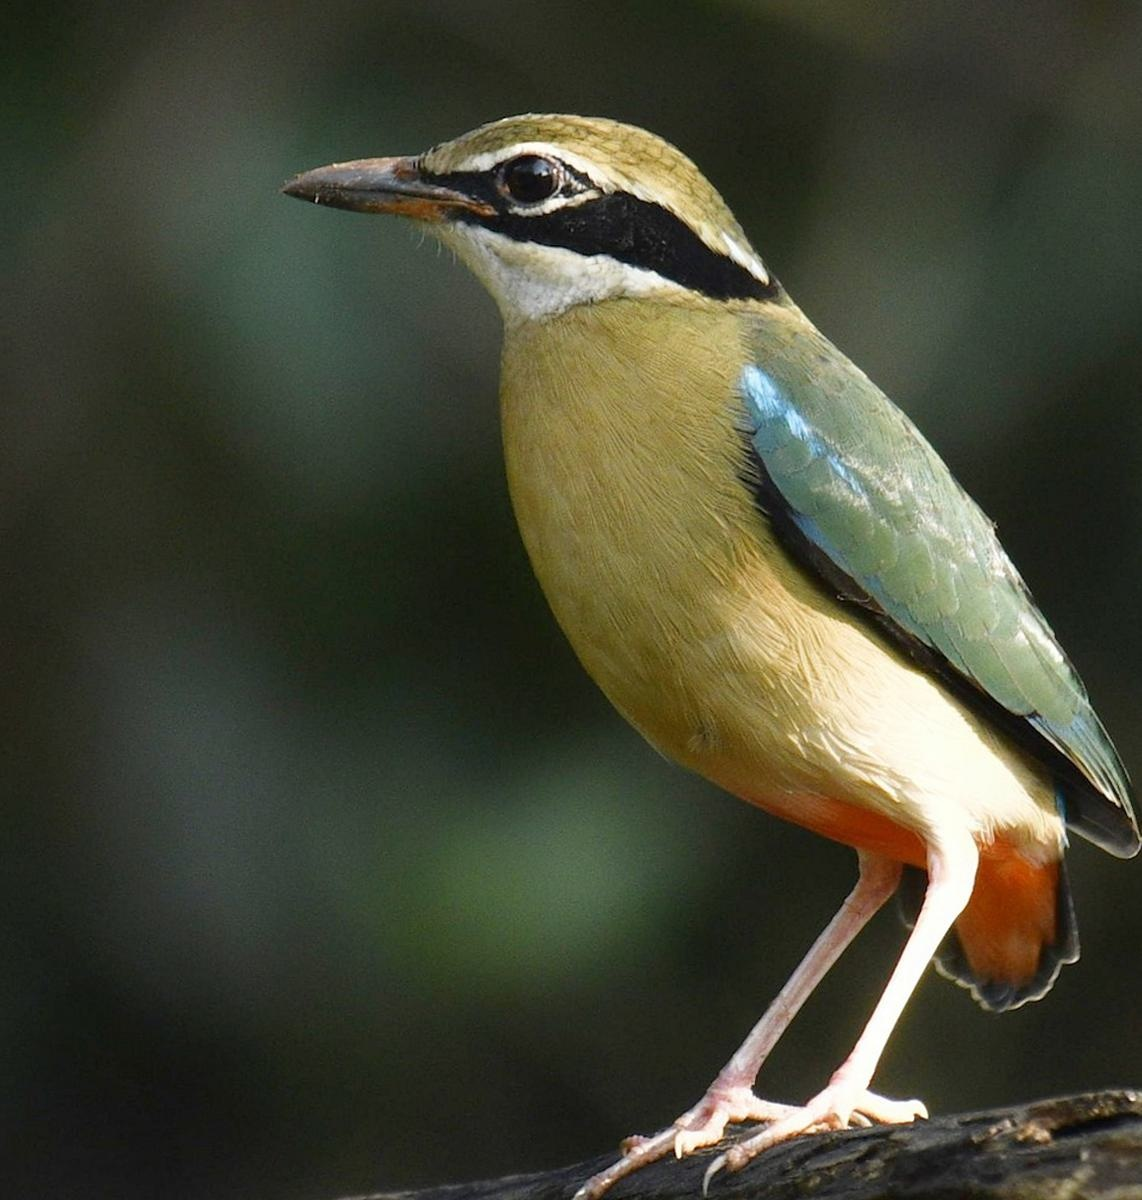pitta: (275, 96, 1110, 1157)
